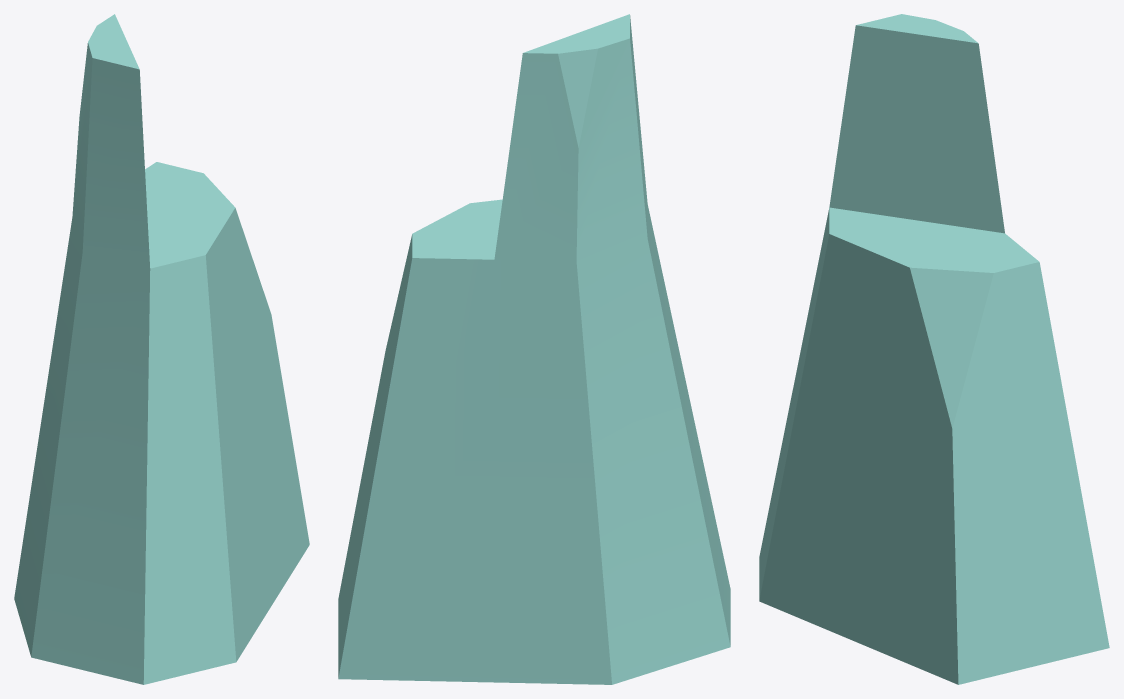
The model's file is rock_tall4.fbx.
The picture shows the model from 3 angles, left to right: view 1: azimuth 30°, elevation 25°; view 2: azimuth 150°, elevation 25°; view 3: azimuth 270°, elevation 25°; orthographic projection. The views are drawn at different scales.
Visible parts, largest first — view 1: rock_tall4; view 2: rock_tall4; view 3: rock_tall4.
Part boxes in pixels (<box>): rock_tall4: <box>14,14,309,684</box>; rock_tall4: <box>338,14,730,684</box>; rock_tall4: <box>759,14,1109,684</box>.
Bounding box in the file's own units: 138 × 232 × 133.
